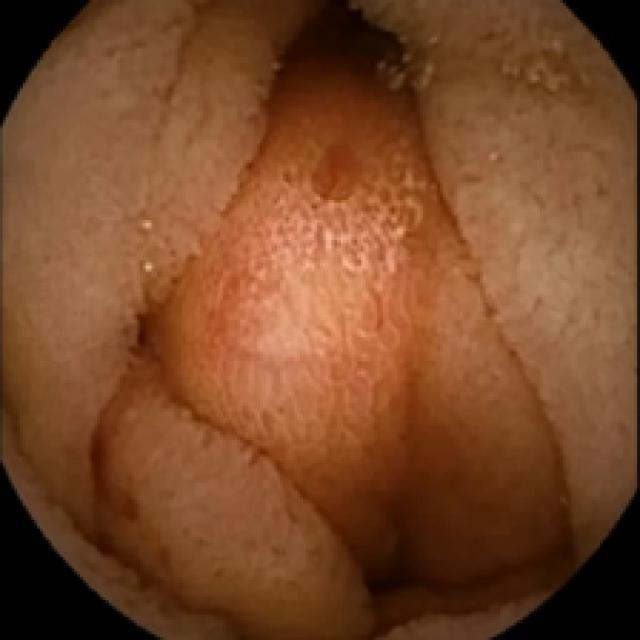bleeding: (67, 408, 166, 533)
